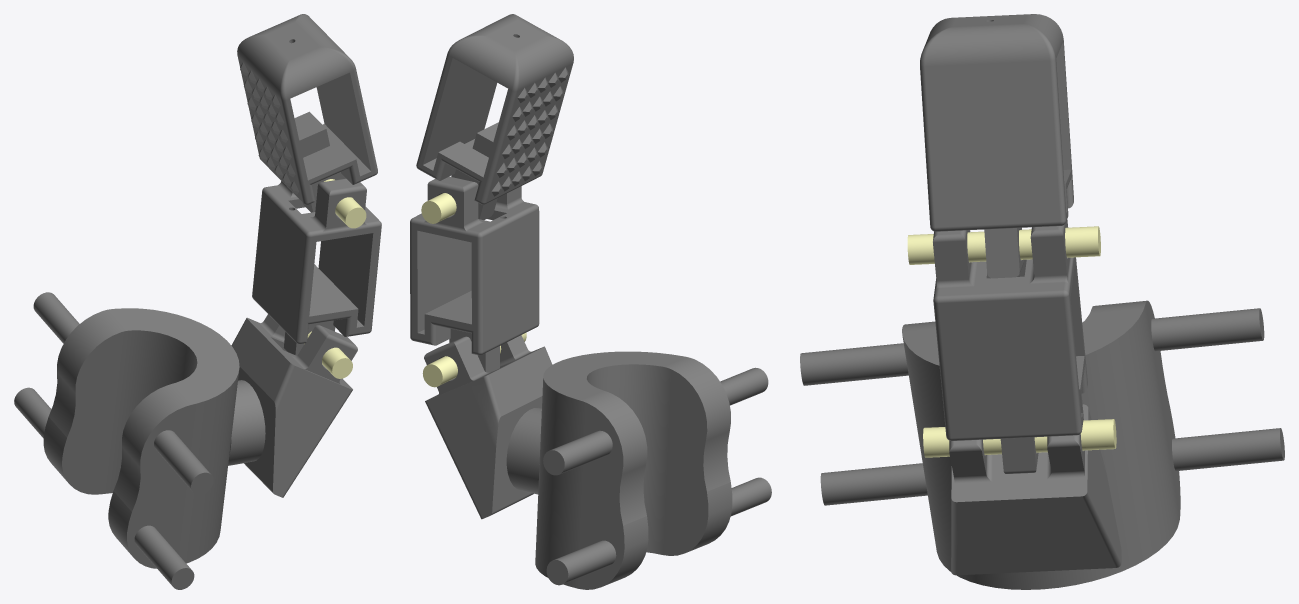
Rendered from Thumb_Assembly.glb.
3 renders of one model, left to right at view 1: azimuth 30°, elevation 25°; view 2: azimuth 150°, elevation 25°; view 3: azimuth 270°, elevation 25°, orthographic. The views are drawn at different scales.
Parts seen in each view (by area): view 1: Thumb Base-2, Thumb Top-1, Thumb Middle-1, Thumb Bottom-2, Knuckle Pin-1, Knuckle Pin-2; view 2: Thumb Base-2, Thumb Top-1, Thumb Middle-1, Thumb Bottom-2, Knuckle Pin-2, Knuckle Pin-1; view 3: Thumb Base-2, Thumb Top-1, Thumb Middle-1, Thumb Bottom-2, Knuckle Pin-1, Knuckle Pin-2.
Part boxes in pixels (x1=…): Thumb Base-2: x1=14, y1=292, x2=265, y2=589; Thumb Top-1: x1=237, y1=14, x2=377, y2=212; Thumb Middle-1: x1=252, y1=178, x2=381, y2=355; Thumb Bottom-2: x1=231, y1=314, x2=357, y2=497; Knuckle Pin-1: x1=324, y1=179, x2=366, y2=228; Knuckle Pin-2: x1=304, y1=331, x2=352, y2=378; Thumb Base-2: x1=506, y1=351, x2=771, y2=589; Thumb Top-1: x1=416, y1=14, x2=573, y2=219; Thumb Middle-1: x1=410, y1=176, x2=539, y2=372; Thumb Bottom-2: x1=424, y1=335, x2=552, y2=519; Knuckle Pin-2: x1=422, y1=333, x2=526, y2=387; Knuckle Pin-1: x1=421, y1=193, x2=456, y2=223; Thumb Base-2: x1=800, y1=300, x2=1284, y2=589; Thumb Top-1: x1=920, y1=14, x2=1073, y2=278; Thumb Middle-1: x1=933, y1=219, x2=1087, y2=473; Thumb Bottom-2: x1=949, y1=404, x2=1121, y2=575; Knuckle Pin-1: x1=907, y1=226, x2=1100, y2=264; Knuckle Pin-2: x1=923, y1=419, x2=1116, y2=457.
Size of the model in its own units: 0.0715 by 0.1259 by 0.0887.
